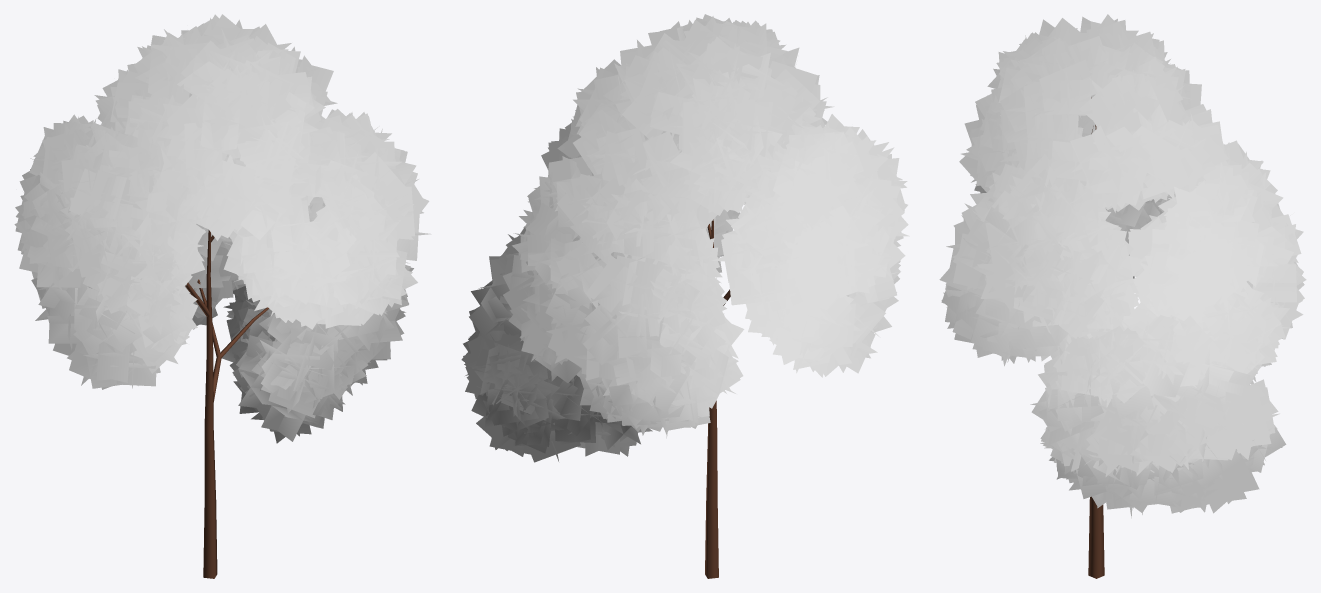
The model's file is T1Tree3.fbx.
The picture shows the model from 3 angles, left to right: view 1: azimuth 30°, elevation 25°; view 2: azimuth 150°, elevation 25°; view 3: azimuth 270°, elevation 25°; orthographic projection.
Visible parts, largest first — view 1: Leaves_1.3B, Leaves_1.3A, Bark_1.3; view 2: Leaves_1.3A, Leaves_1.3B, Bark_1.3; view 3: Leaves_1.3B, Leaves_1.3A, Bark_1.3.
Boxes of the visible parts, x1,y1,x2,y2 form: Leaves_1.3B: [14, 24, 423, 436]; Leaves_1.3A: [19, 14, 431, 443]; Bark_1.3: [185, 230, 268, 578]; Leaves_1.3A: [461, 18, 907, 461]; Leaves_1.3B: [463, 14, 909, 462]; Bark_1.3: [705, 219, 730, 578]; Leaves_1.3B: [941, 14, 1304, 514]; Leaves_1.3A: [939, 18, 1306, 518]; Bark_1.3: [1088, 97, 1104, 578].
Bounding box in the file's own units: 7.27 × 9.81 × 5.96.
